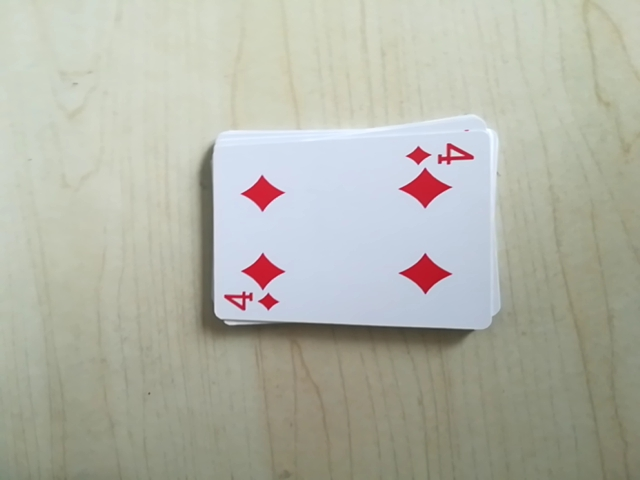fk 4: (406, 130, 484, 170), (216, 287, 285, 320)
